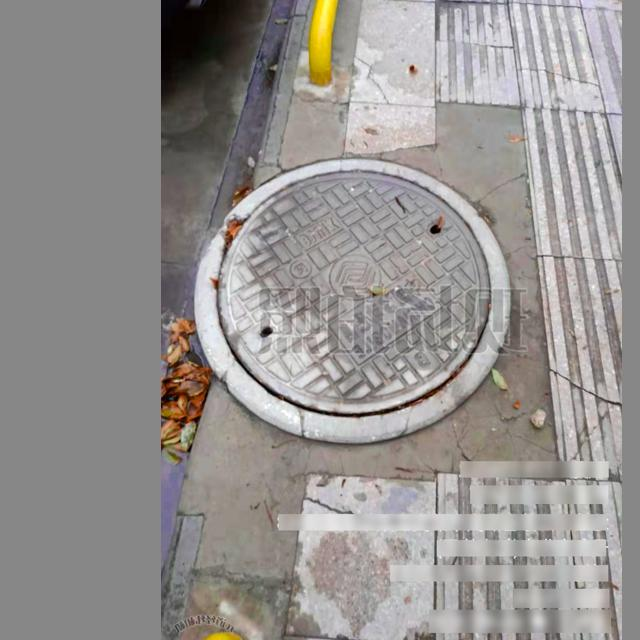good: (194, 156, 510, 443)
